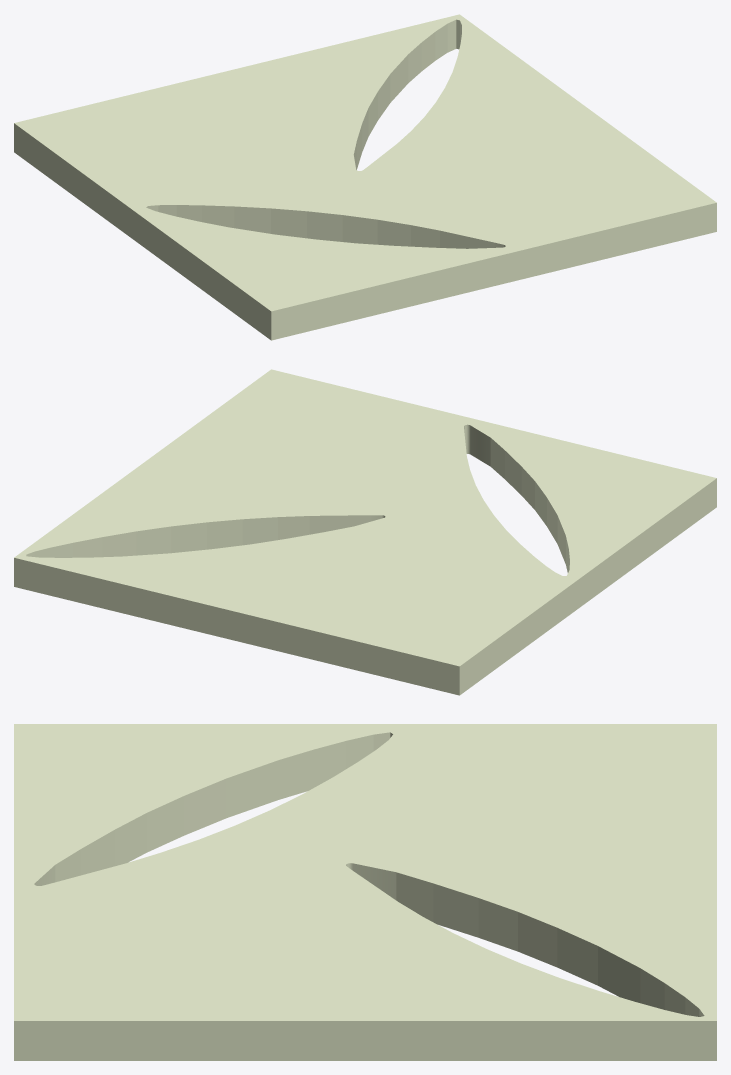
The model's file is STYLE 1.glb.
3 views of the same model, one above another, from view 1: azimuth 30°, elevation 25°; view 2: azimuth 150°, elevation 25°; view 3: azimuth 270°, elevation 25° (orthographic). The views are drawn at different scales.
Parts seen in each view (by area): view 1: style 1; view 2: style 1; view 3: style 1.
Boxes of the visible parts, x1=… form: style 1: x1=14, y1=14, x2=716, y2=340; style 1: x1=14, y1=369, x2=716, y2=695; style 1: x1=14, y1=724, x2=716, y2=1060.
Size of the model in its own units: 2.59 by 0.1619 by 2.59.
